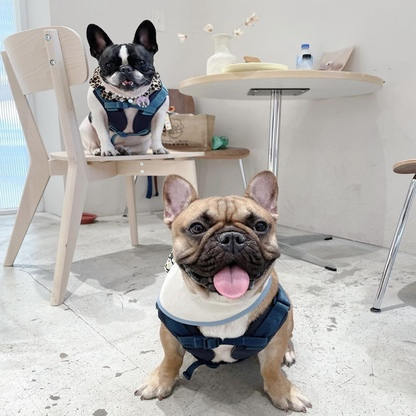bulldog: (132, 168, 315, 416), (75, 16, 171, 159)
